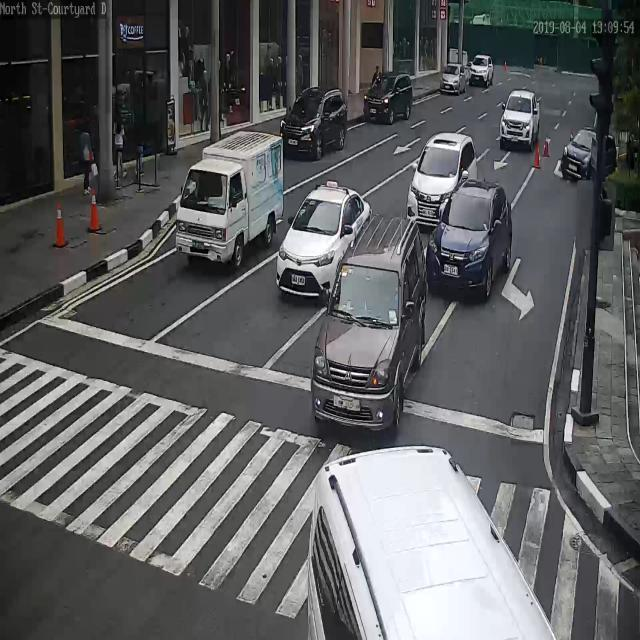car: (311, 215, 427, 428), (275, 188, 374, 297), (426, 179, 513, 297), (280, 86, 348, 154), (562, 127, 615, 178), (364, 72, 412, 125), (500, 90, 540, 147), (438, 63, 467, 96), (470, 54, 494, 87)
van: (306, 441, 557, 640), (175, 130, 282, 264), (408, 132, 479, 228)
